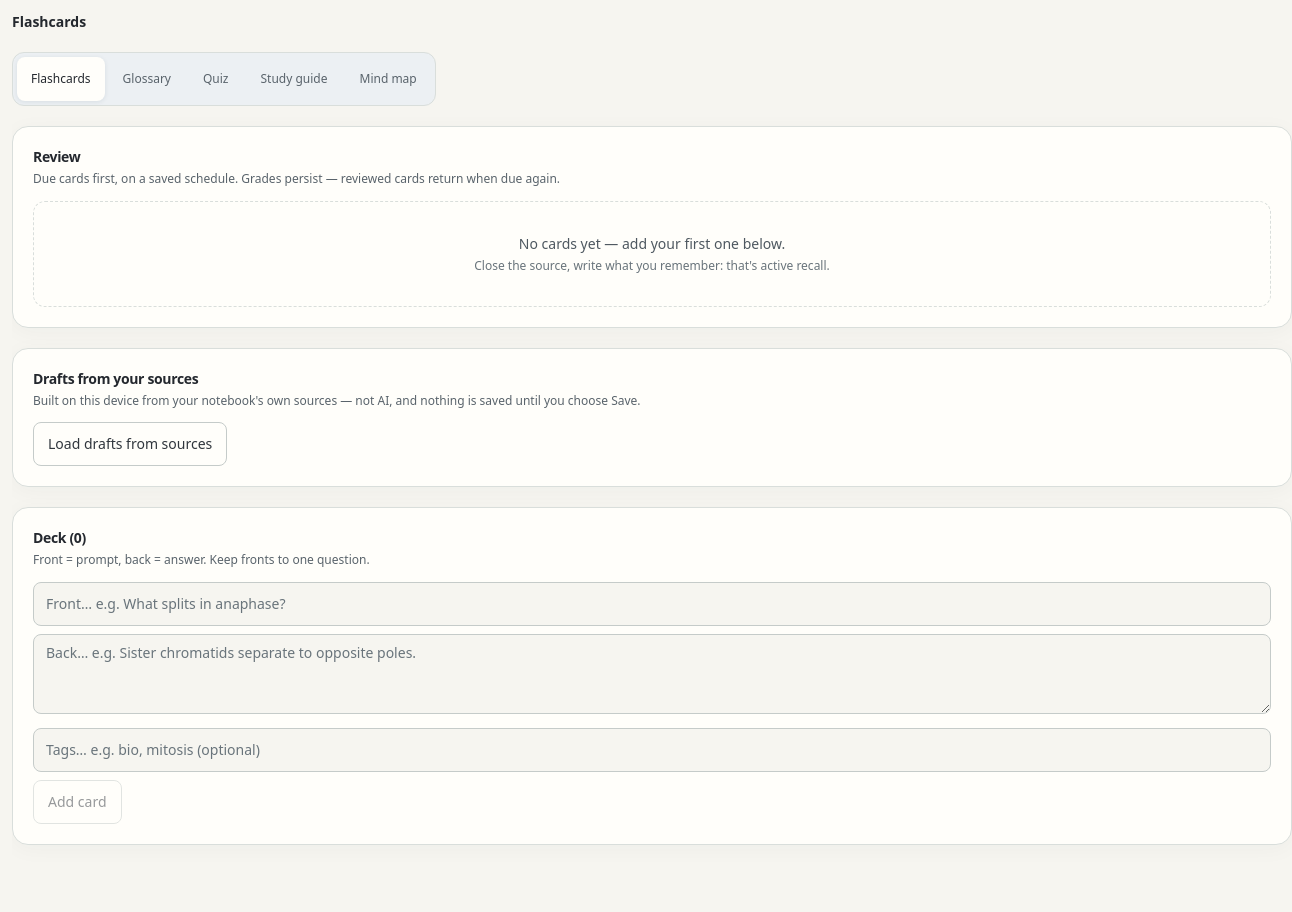
StudyPanel glossary + quiz slice › states glossary and quiz are local/deterministic with no AI
Click the tab "Glossary": coordinates (147, 79) [109,57,185,101]
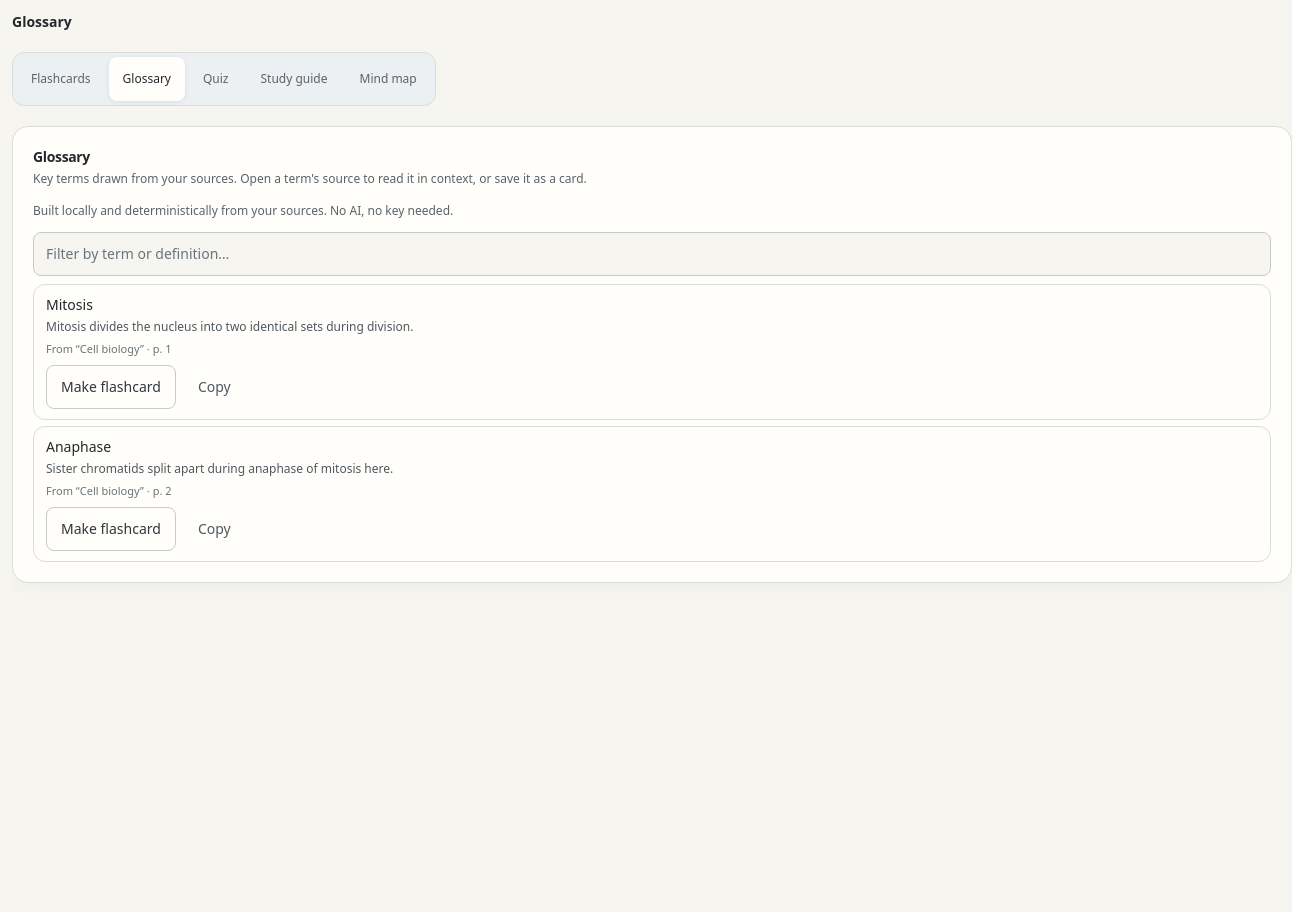
Expected: the text "Mitosis" is shown, [46,295,93,314]
Click the tab "Quiz": coordinates (216, 79) [189,57,242,101]
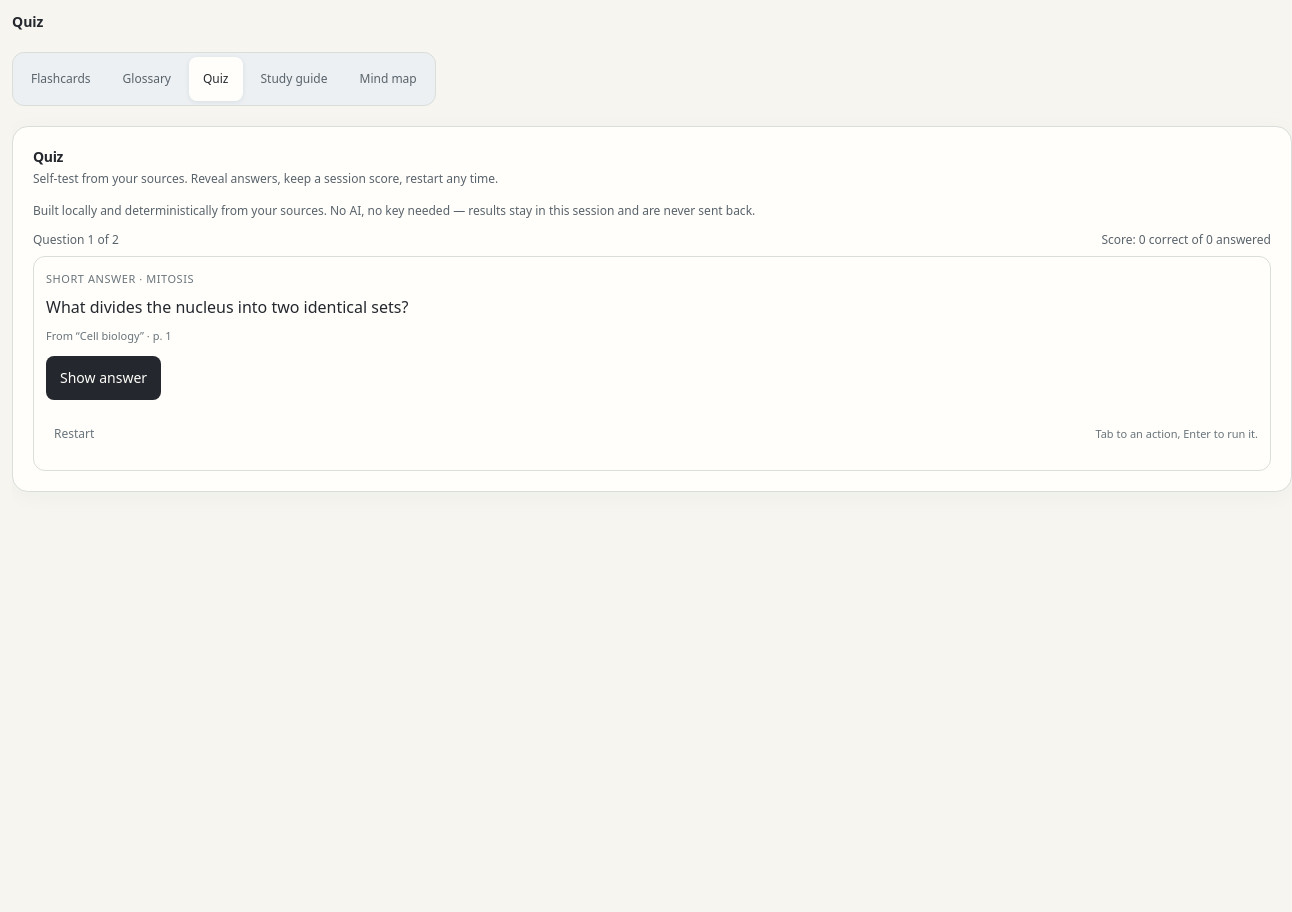
Expected: the text "What divides the nucleus into two identical sets?" is shown, [46,296,408,318]
